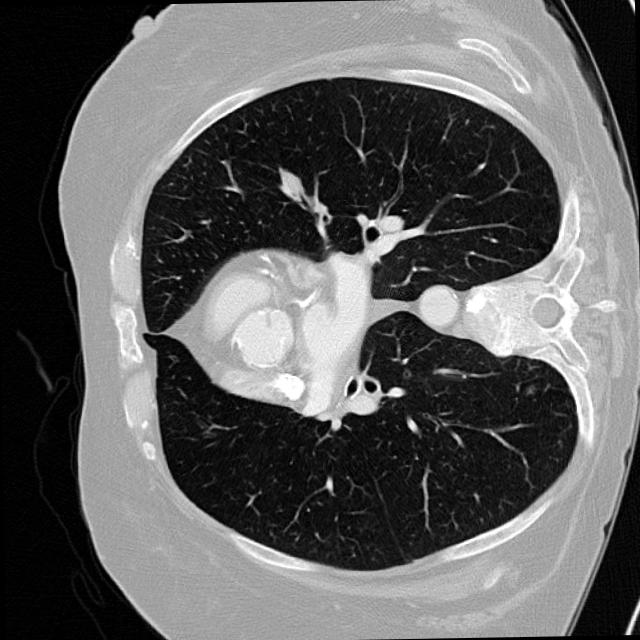nodule: (266, 162, 312, 208)
